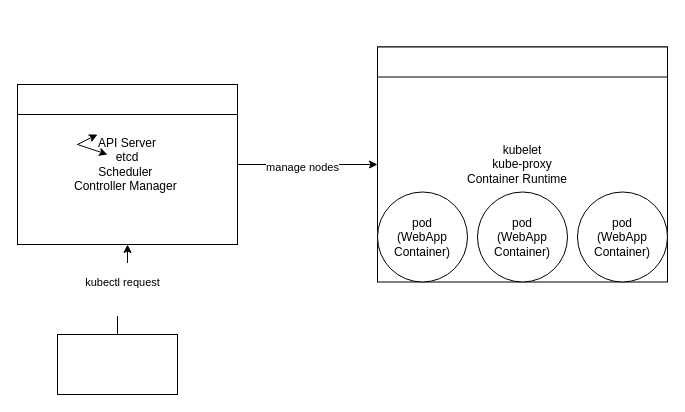
The diagram is 685 pixels wide and 412 high, and some of its shapes have lost their labels. Here are the shapes that lost their labels. From the top down, the box of each, then its label:
(376, 46, 668, 77): Worker Node
(16, 84, 238, 114): Control Plane
(56, 334, 178, 394): USER
